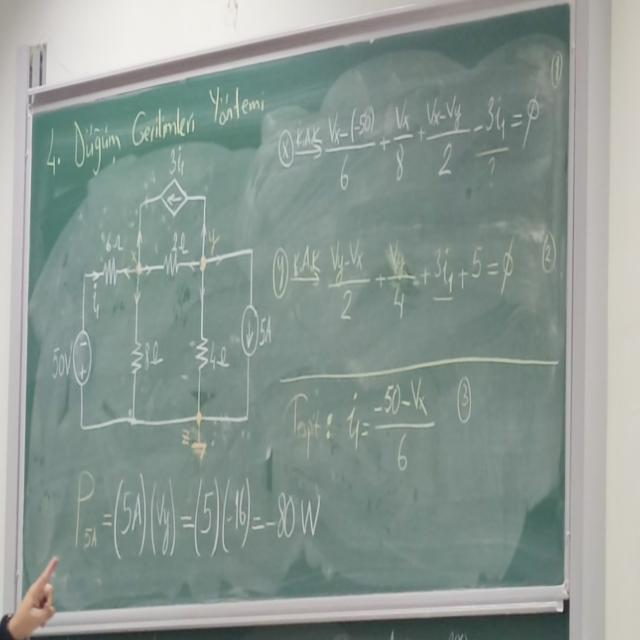image: (34, 127, 275, 477)
math: (318, 69, 560, 210), (63, 444, 322, 575), (323, 197, 535, 342), (334, 364, 439, 479)
text: (36, 61, 271, 203), (279, 386, 333, 446)
